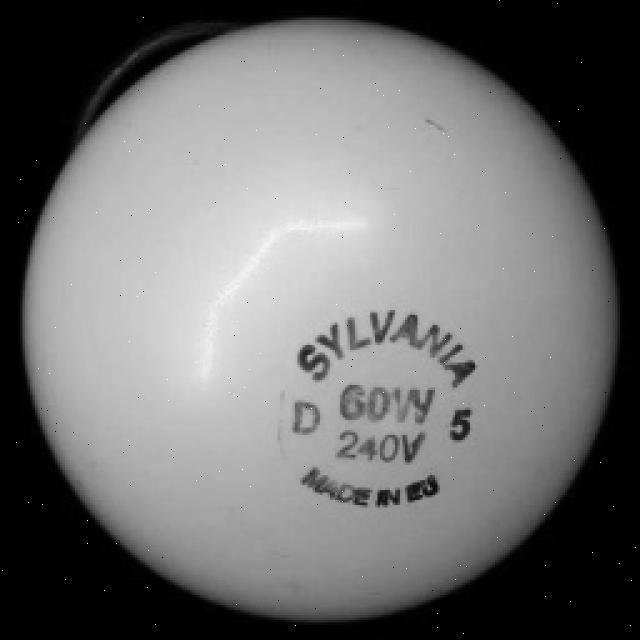ping-pong-ball: (23, 14, 622, 624)
